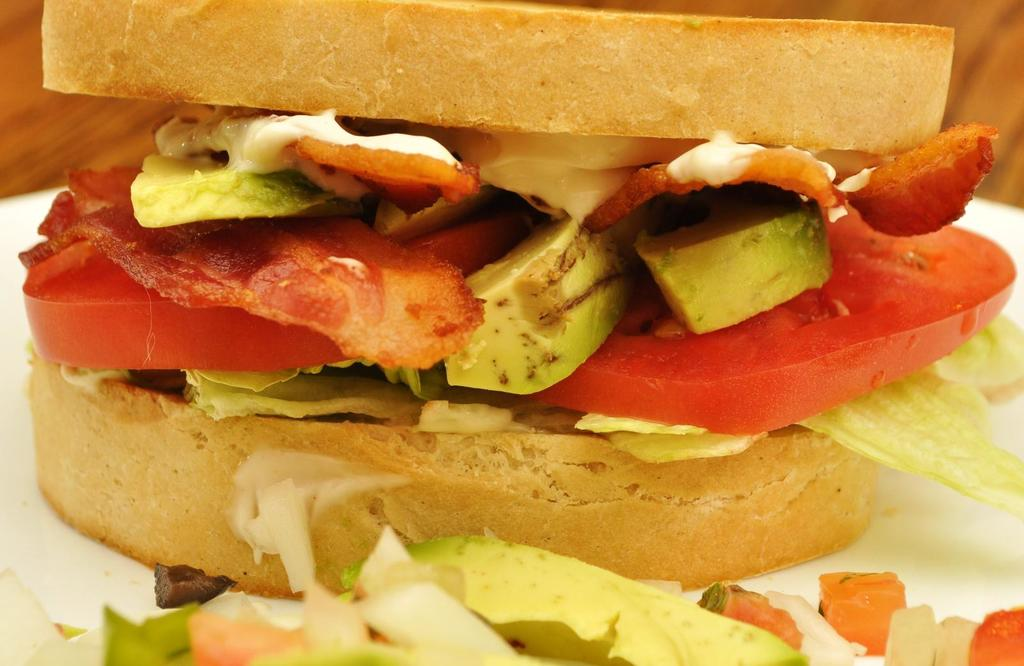Hamburger: (14, 0, 1023, 600)
